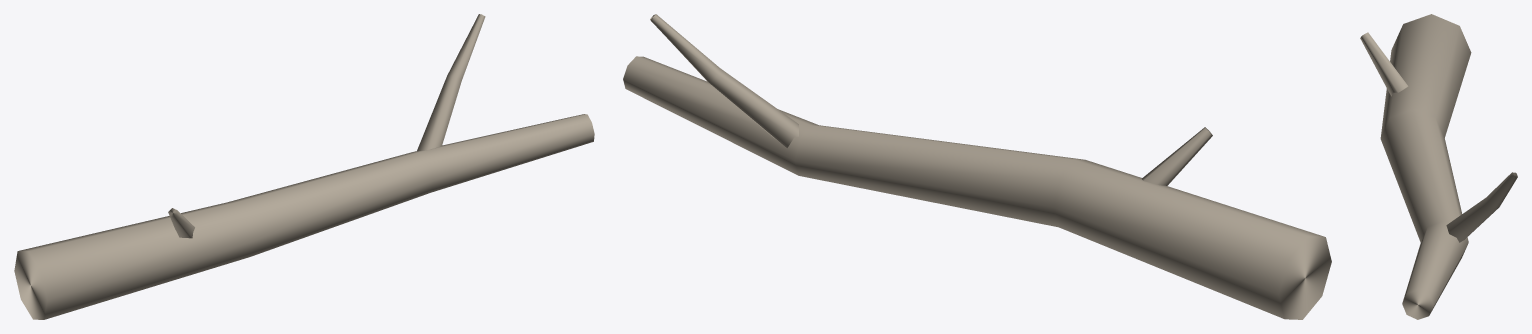
The model's file is driftwood.glb.
The picture shows the model from 3 angles, left to right: view 1: azimuth 30°, elevation 25°; view 2: azimuth 150°, elevation 25°; view 3: azimuth 270°, elevation 25°; orthographic projection. The views are drawn at different scales.
Parts seen in each view (by area): view 1: Driftwood; view 2: Driftwood; view 3: Driftwood.
Part boxes in pixels (x1,y1,x2,y2): Driftwood: [14, 14, 594, 319]; Driftwood: [623, 14, 1331, 319]; Driftwood: [1360, 14, 1517, 319].
Bounding box in the file's own units: 5.05 × 1.37 × 1.18.
